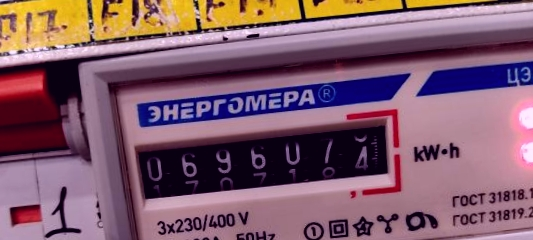0: (281, 135, 303, 167), (143, 153, 164, 182)
4: (351, 143, 370, 173)
6: (246, 141, 268, 172), (178, 148, 200, 178)
7: (317, 134, 337, 165)
9: (213, 146, 232, 175)
screen: (118, 100, 411, 219)
